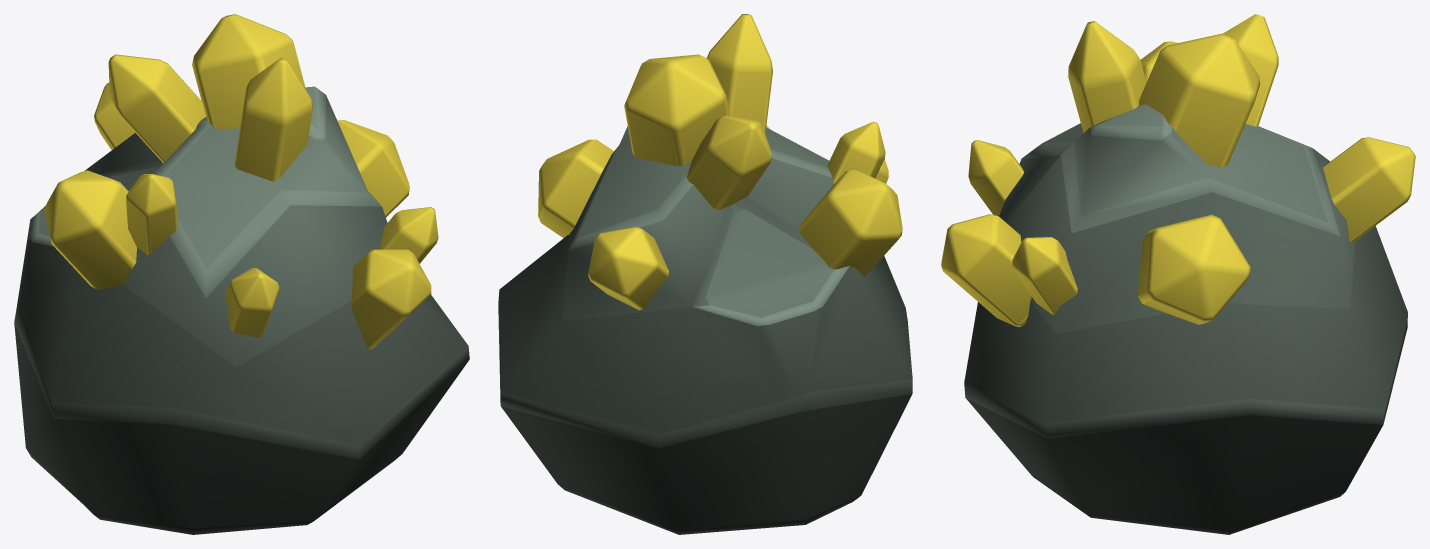
3 views of the same model, side by side, from view 1: azimuth 30°, elevation 25°; view 2: azimuth 150°, elevation 25°; view 3: azimuth 270°, elevation 25° (orthographic). The views are drawn at different scales.
Parts seen in each view (by area): view 1: ore_christal_saphire_L_cube_mat_0; view 2: ore_christal_saphire_L_cube_mat_0; view 3: ore_christal_saphire_L_cube_mat_0.
Part boxes in pixels (x1,y1,x2,y2): ore_christal_saphire_L_cube_mat_0: (14,14,469,534); ore_christal_saphire_L_cube_mat_0: (498,14,912,534); ore_christal_saphire_L_cube_mat_0: (941,14,1415,534).
Size of the model in its own units: 227 by 277 by 235.
Materials: 1 (1 with a texture image).
